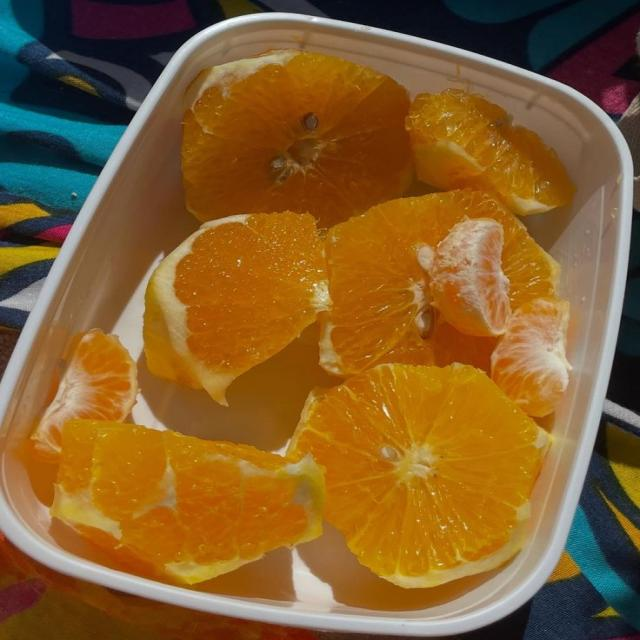orange: (290, 365, 548, 587), (320, 190, 559, 376), (52, 421, 324, 583), (182, 50, 413, 226), (144, 213, 329, 404), (407, 90, 574, 214), (31, 330, 138, 461), (428, 218, 510, 335), (492, 298, 571, 416)
